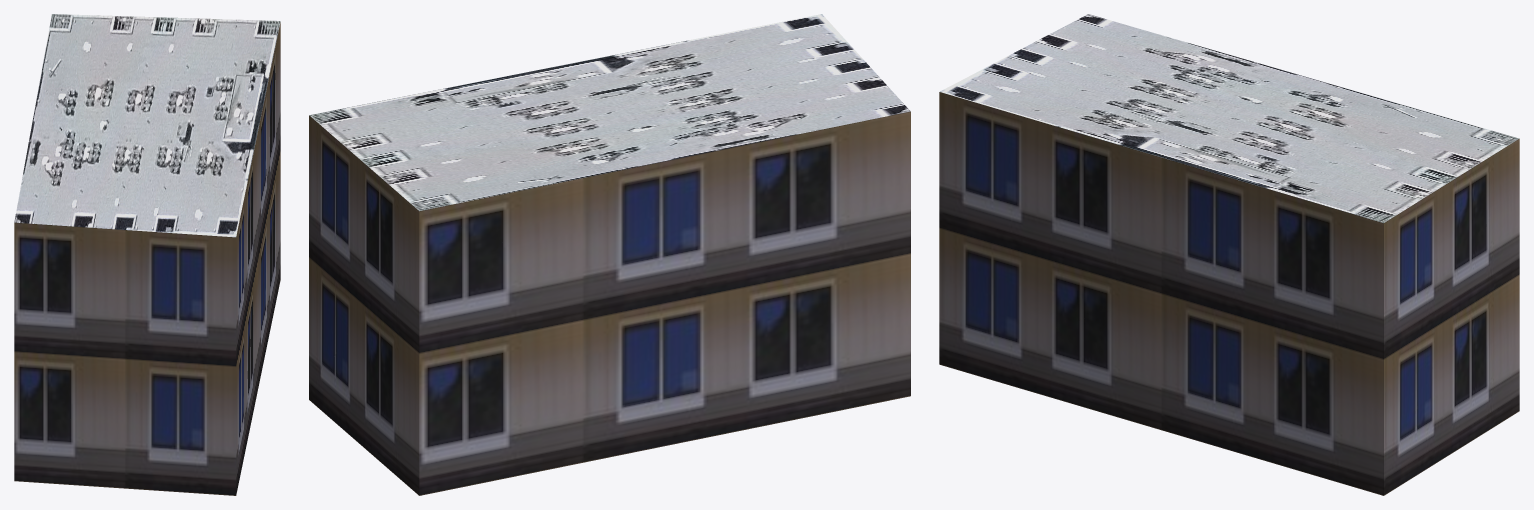
The model's file is ResTex__1102.fbx.
3 renders of one model, left to right at view 1: azimuth 30°, elevation 25°; view 2: azimuth 150°, elevation 25°; view 3: azimuth 270°, elevation 25°, orthographic. The views are drawn at different scales.
Visible parts, largest first — view 1: CityEngineMaterial_5_m, CityEngineMaterial_2_m; view 2: CityEngineMaterial_5_m, CityEngineMaterial_2_m; view 3: CityEngineMaterial_5_m, CityEngineMaterial_2_m.
Boxes of the visible parts, left/top/right/bottom form: CityEngineMaterial_5_m: left=14, top=22, right=280, bottom=495; CityEngineMaterial_2_m: left=14, top=14, right=280, bottom=237; CityEngineMaterial_5_m: left=309, top=111, right=910, bottom=495; CityEngineMaterial_2_m: left=309, top=14, right=910, bottom=211; CityEngineMaterial_5_m: left=939, top=92, right=1519, bottom=495; CityEngineMaterial_2_m: left=940, top=14, right=1518, bottom=222.
Bounding box in the file's own units: 9.87 × 6 × 11.57.
Materials: 2 (2 with a texture image).
